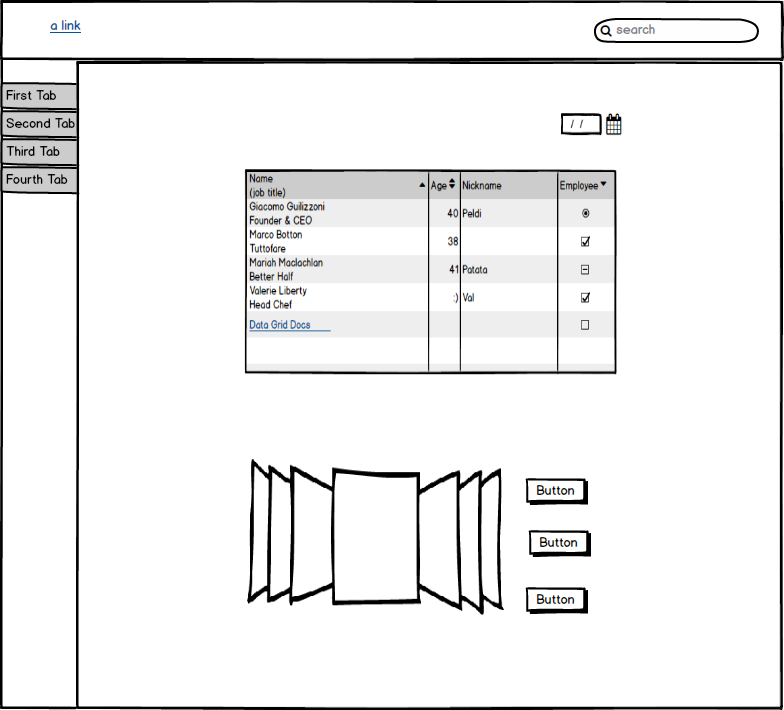button: (524, 525, 598, 561), (521, 475, 593, 508), (522, 585, 596, 616)
date_picker: (558, 108, 625, 139)
navlink: (38, 17, 95, 40)
search: (591, 13, 762, 48)
sidebar: (3, 74, 84, 199)
slideshow: (248, 454, 510, 616)
table: (237, 162, 621, 379)
